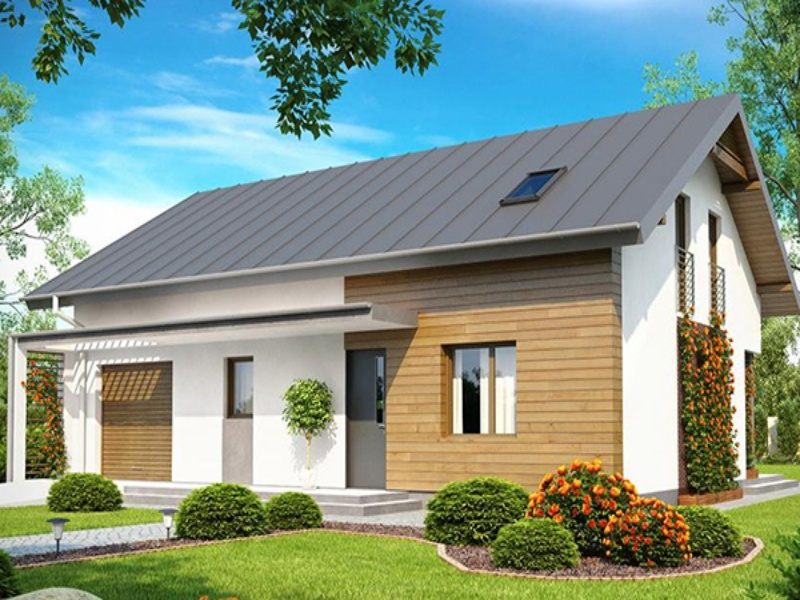window: (441, 334, 517, 431), (226, 350, 250, 413)
